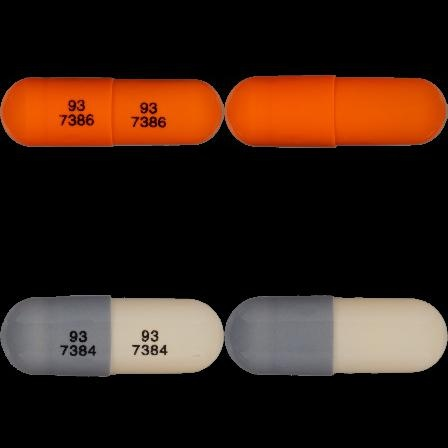54868-6140: (0, 0, 224, 224)
